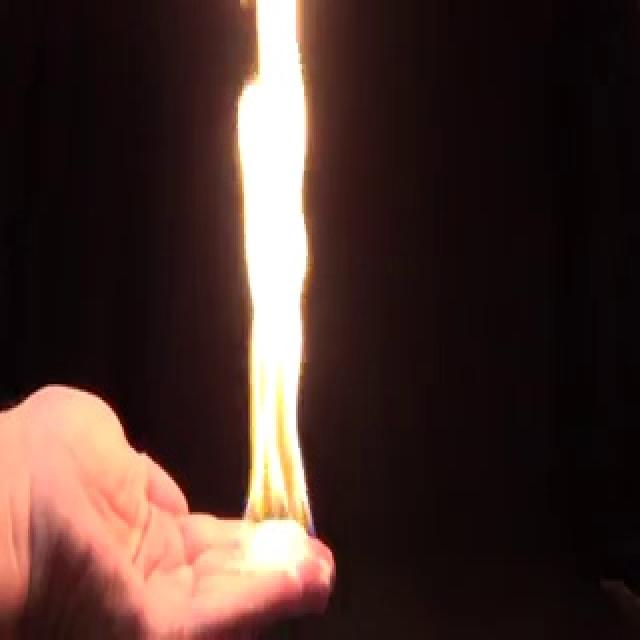fire: (214, 0, 335, 573)
